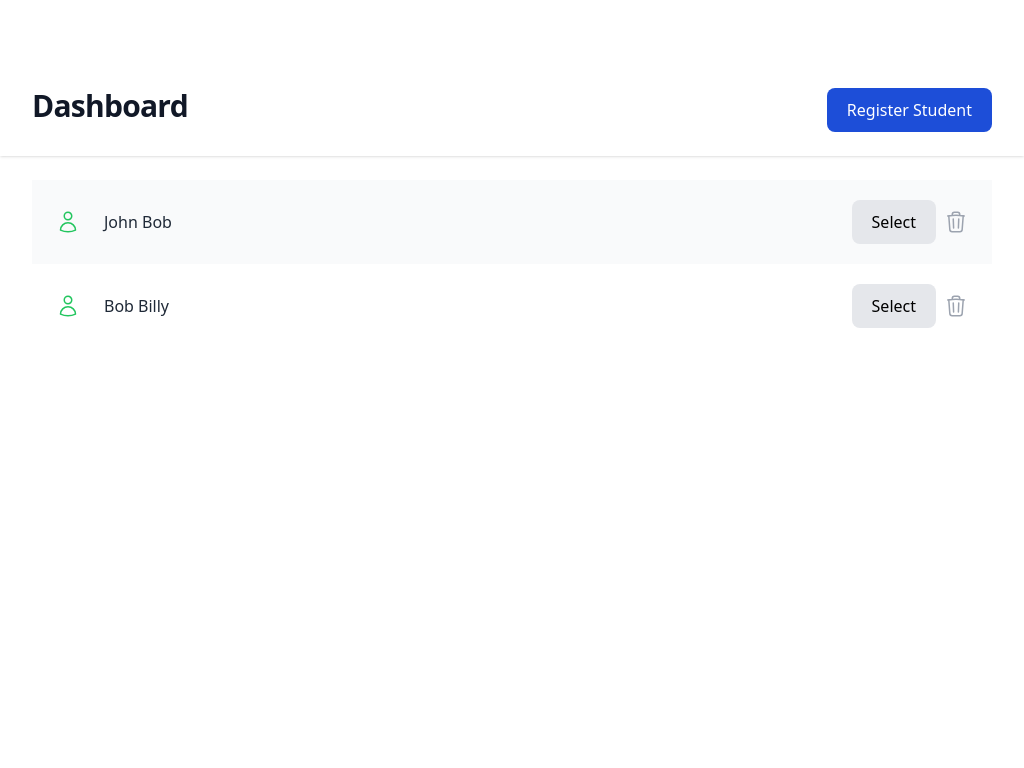
Test: Dashboard › click on registering a student › should open and close a modal
Click the button "Register Student". click: (909,110)
box: top-left (827, 88), bottom-right (992, 132)
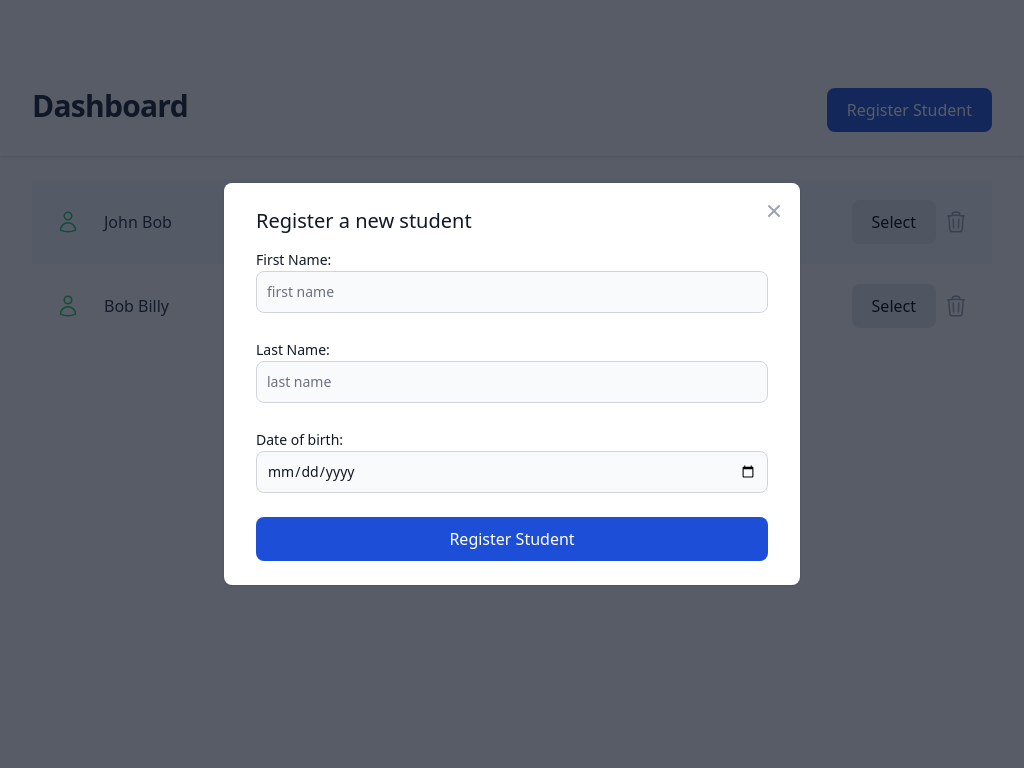
Now the element with test id "modal-test" is shown, box top-left (224, 183), bottom-right (800, 585)
Click the button with test id "modal-close". click: (774,211)
box: top-left (758, 195), bottom-right (790, 227)
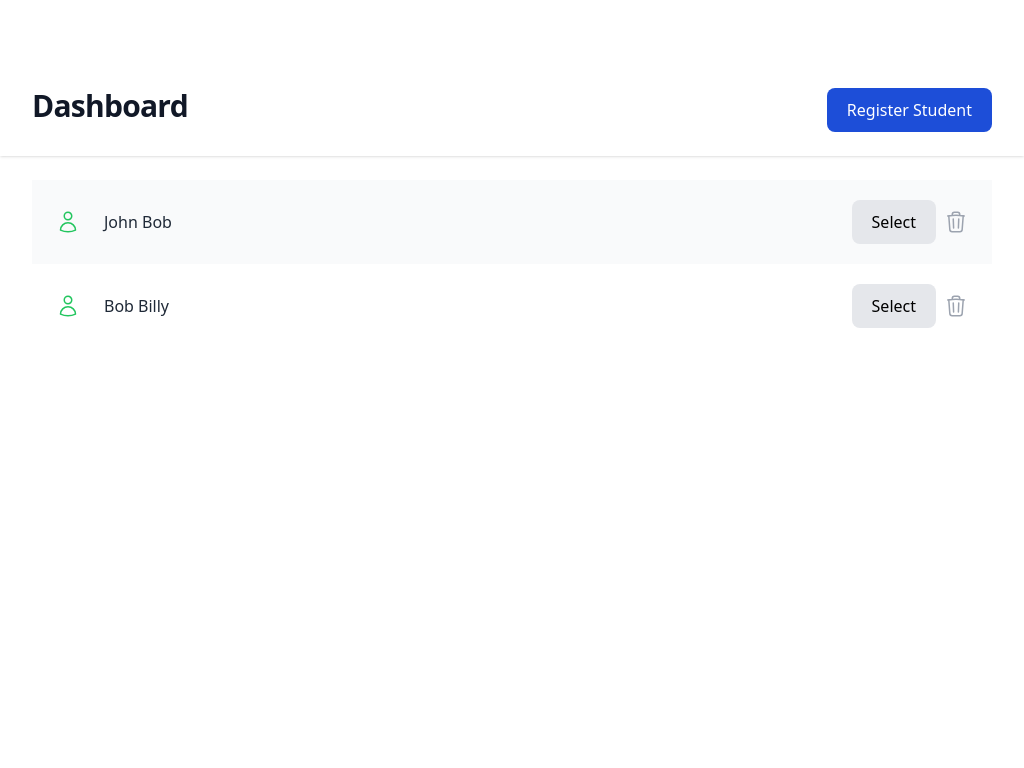
Now the element with test id "modal-test" is gone
